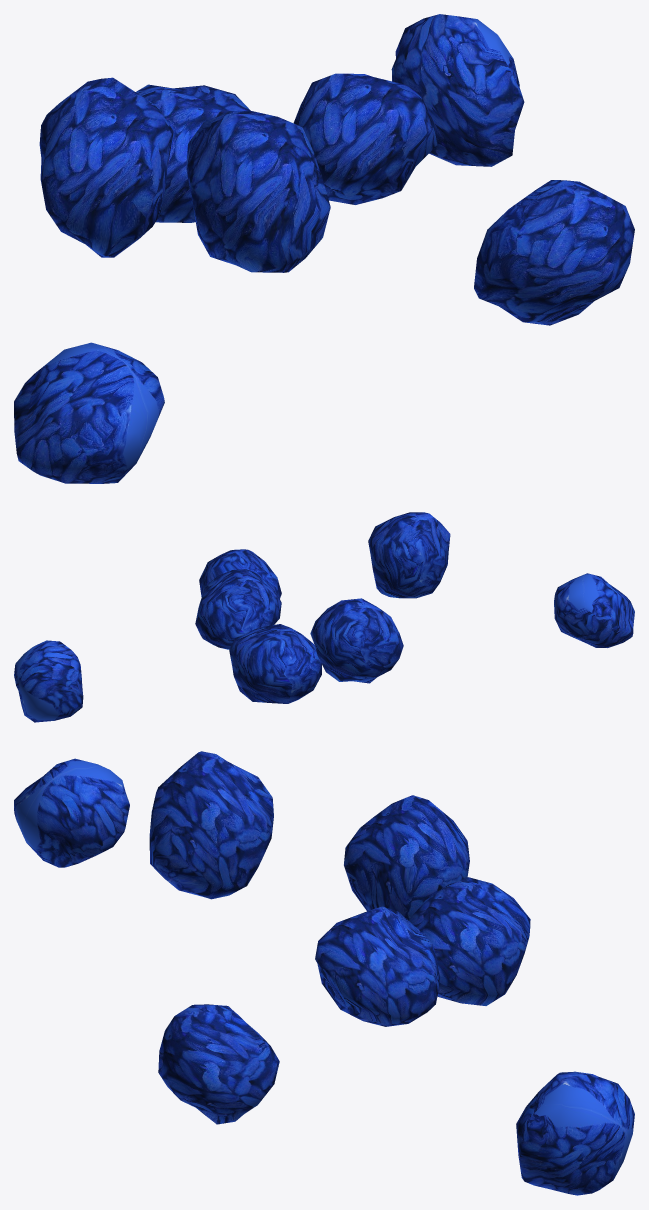
Rendered from tea.glb.
The picture shows the model from 3 angles, top to bottom: view 1: azimuth 30°, elevation 25°; view 2: azimuth 150°, elevation 25°; view 3: azimuth 270°, elevation 25°; orthographic projection. The views are drawn at different scales.
Parts seen in each view (by area): view 1: sweets.294, sweets.267, sweets.225, sweets.295, sweets.296, sweets.255, sweets.239; view 2: sweets.267, sweets.239, sweets.294, sweets.255, sweets.295, sweets.296, sweets.225; view 3: sweets.294, sweets.296, sweets.255, sweets.267, sweets.239, sweets.225, sweets.295.
Part boxes in pixels (box(x1,y1,x2,y2)): sweets.294: box(186, 110, 330, 272); sweets.267: box(39, 77, 173, 257); sweets.225: box(474, 180, 634, 325); sweets.295: box(14, 342, 164, 483); sweets.296: box(391, 14, 524, 166); sweets.255: box(293, 73, 437, 204); sweets.239: box(136, 84, 250, 222); sweets.267: box(310, 598, 403, 683); sweets.239: box(229, 624, 321, 703); sweets.294: box(368, 512, 450, 598); sweets.255: box(195, 569, 281, 649); sweets.295: box(554, 573, 634, 647); sweets.296: box(14, 640, 83, 722); sweets.225: box(199, 549, 281, 598); sweets.294: box(149, 751, 273, 899); sweets.296: box(516, 1071, 634, 1195); sweets.255: box(315, 906, 439, 1026); sweets.267: box(344, 795, 469, 920); sweets.239: box(408, 877, 530, 1005); sweets.225: box(158, 1004, 279, 1124); sweets.295: box(14, 758, 129, 867).
Bounding box in the file's own units: 0.0459 × 0.0173 × 0.0378.
1 material, 1 textured.
